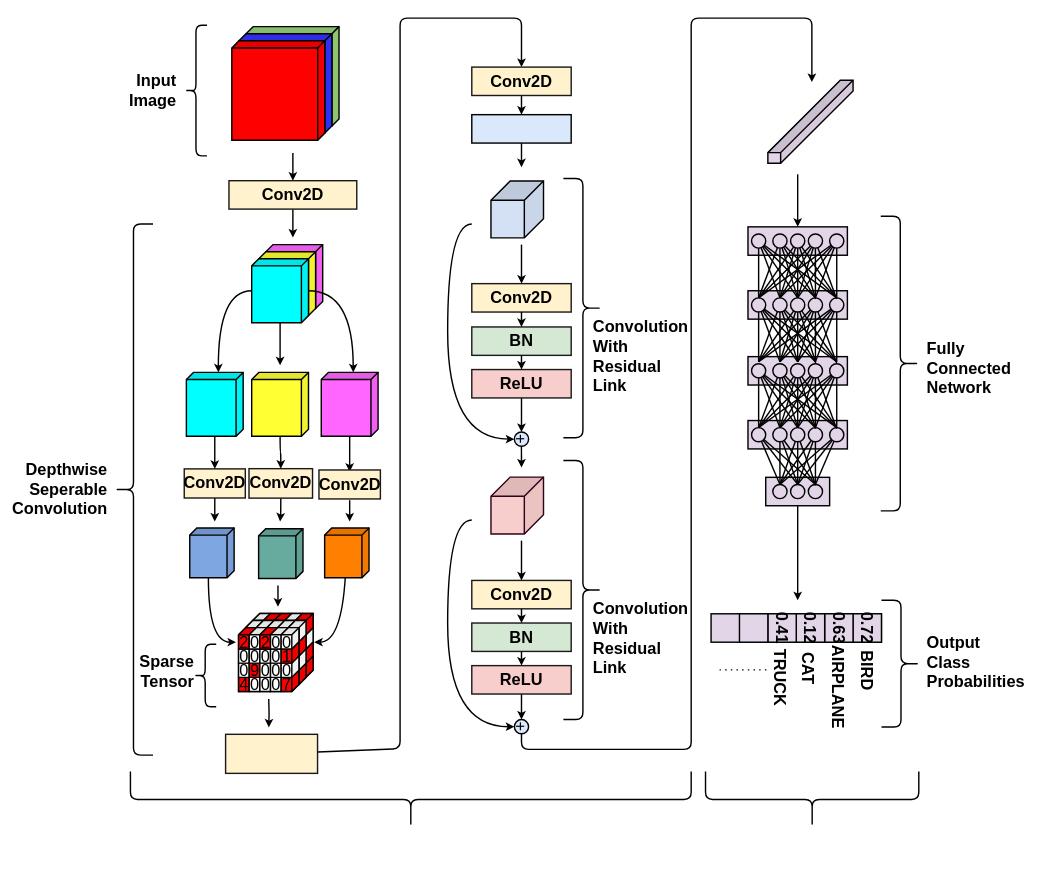
The diagram is 1037 pixels wide and 884 high, and some of its shapes have lost their labels. Each missing label, with the box of its shape:
1x1 Conv2D: (225, 733, 318, 774)
Classification: (704, 770, 919, 828)
Feature Extraction: (129, 770, 692, 828)
Pooling: (471, 114, 572, 143)
